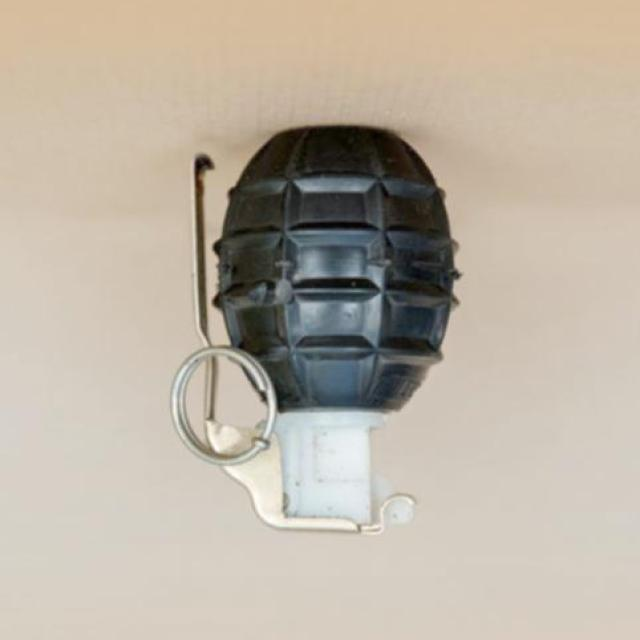grenade: (172, 127, 466, 536)
